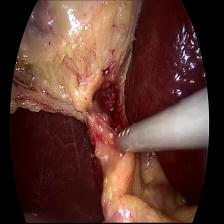Irrigator: (113, 117, 146, 159)
